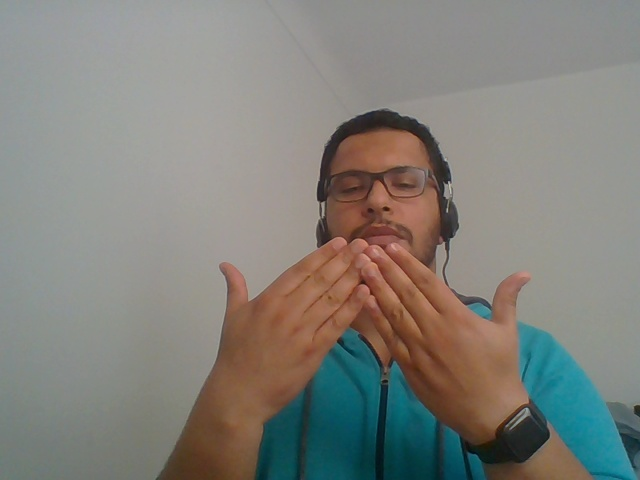thanks: (160, 209, 587, 479)
